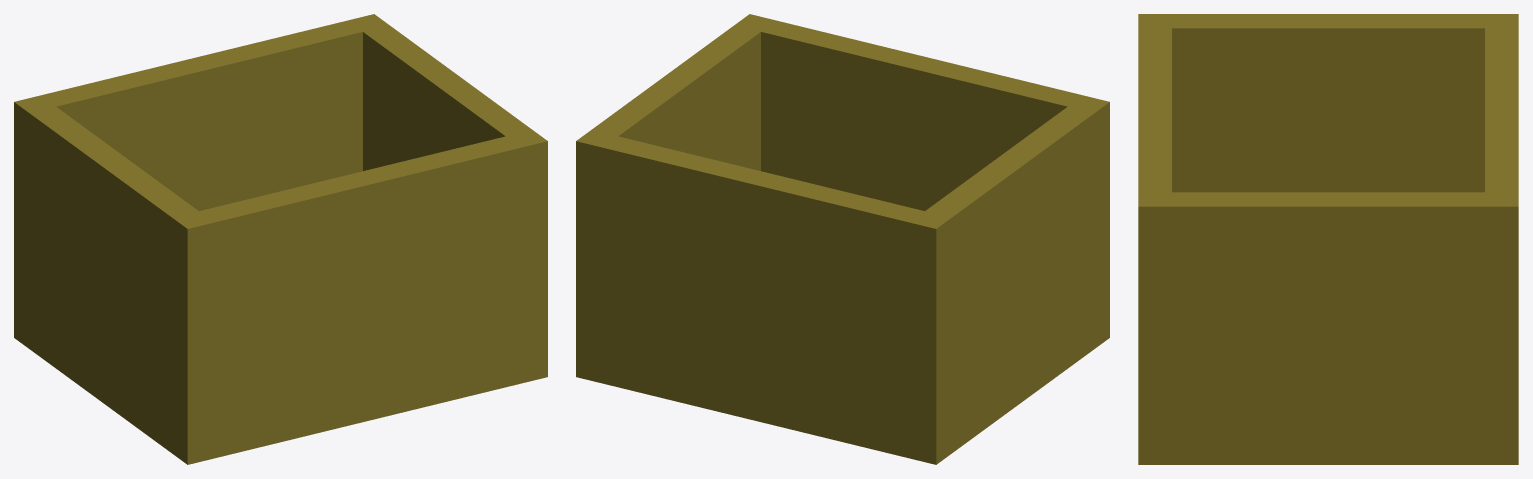
The model's file is room_layout.obj.
The picture shows the model from 3 angles, left to right: view 1: azimuth 30°, elevation 25°; view 2: azimuth 150°, elevation 25°; view 3: azimuth 270°, elevation 25°; orthographic projection. The views are drawn at different scales.
Parts seen in each view (by area): view 1: Mesh1 Model; view 2: Mesh1 Model; view 3: Mesh1 Model.
Boxes of the visible parts, x1=… form: Mesh1 Model: x1=14, y1=14, x2=547, y2=464; Mesh1 Model: x1=576, y1=14, x2=1109, y2=464; Mesh1 Model: x1=1138, y1=14, x2=1518, y2=464.
Bounding box in the file's own units: 114 × 71.08 × 94.87.
